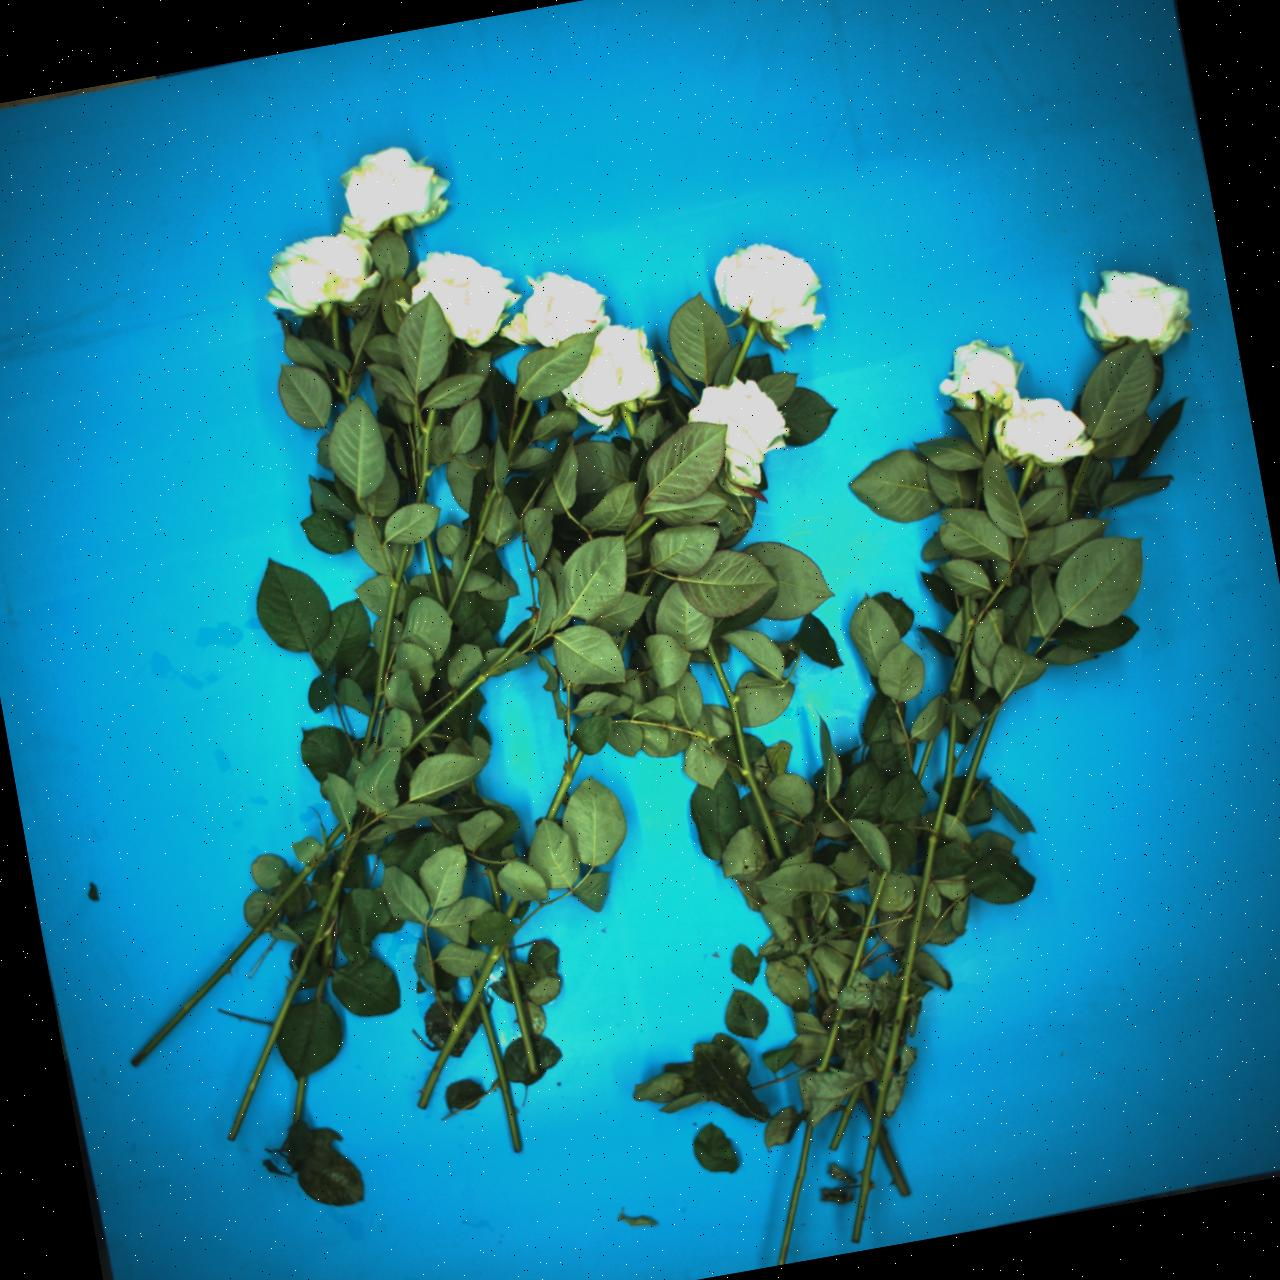Stem: (845, 712, 967, 1244), (127, 864, 318, 1069), (225, 869, 348, 1142), (396, 618, 543, 760), (704, 639, 785, 863), (415, 942, 504, 1111), (358, 543, 410, 760), (472, 993, 527, 1153), (443, 484, 502, 617), (774, 1123, 817, 1266), (953, 701, 1000, 822), (501, 944, 539, 1075), (945, 594, 979, 704), (544, 748, 586, 823), (873, 1126, 911, 1197), (829, 1082, 864, 1151), (726, 321, 760, 387), (415, 409, 436, 504), (503, 399, 535, 462), (1063, 455, 1092, 515), (803, 952, 833, 1007), (424, 535, 447, 608), (863, 870, 890, 928), (846, 927, 870, 988), (621, 515, 660, 549), (819, 1022, 840, 1073), (483, 865, 504, 914), (1013, 459, 1036, 503), (914, 738, 934, 783), (859, 1085, 880, 1123), (322, 822, 347, 850), (620, 404, 639, 438), (336, 367, 352, 407), (293, 1076, 306, 1123), (636, 570, 654, 597), (795, 918, 812, 944), (615, 627, 631, 655), (332, 307, 341, 352), (314, 972, 329, 999), (980, 411, 990, 450), (321, 932, 332, 967), (505, 897, 520, 918), (413, 407, 421, 442), (468, 779, 479, 797), (469, 971, 479, 987), (835, 1008, 845, 1020), (591, 709, 604, 717), (418, 451, 422, 478), (420, 496, 427, 505)
flower: (700, 218, 844, 365), (678, 360, 810, 502), (545, 311, 676, 437), (322, 134, 458, 248), (396, 234, 526, 354), (499, 259, 619, 375), (254, 224, 381, 325), (1075, 267, 1196, 360), (935, 333, 1028, 421), (993, 396, 1095, 467)
